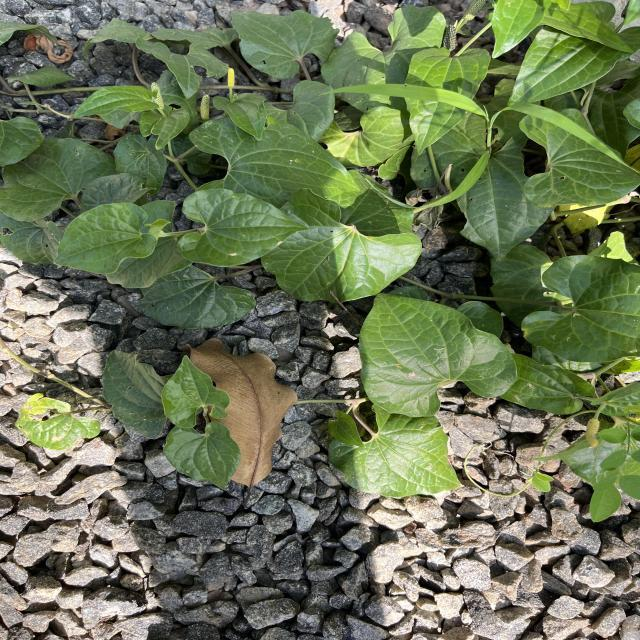Piper longum: (356, 291, 518, 418), (260, 186, 423, 304), (326, 404, 466, 500), (177, 188, 311, 268), (52, 201, 159, 275), (162, 420, 242, 492)
